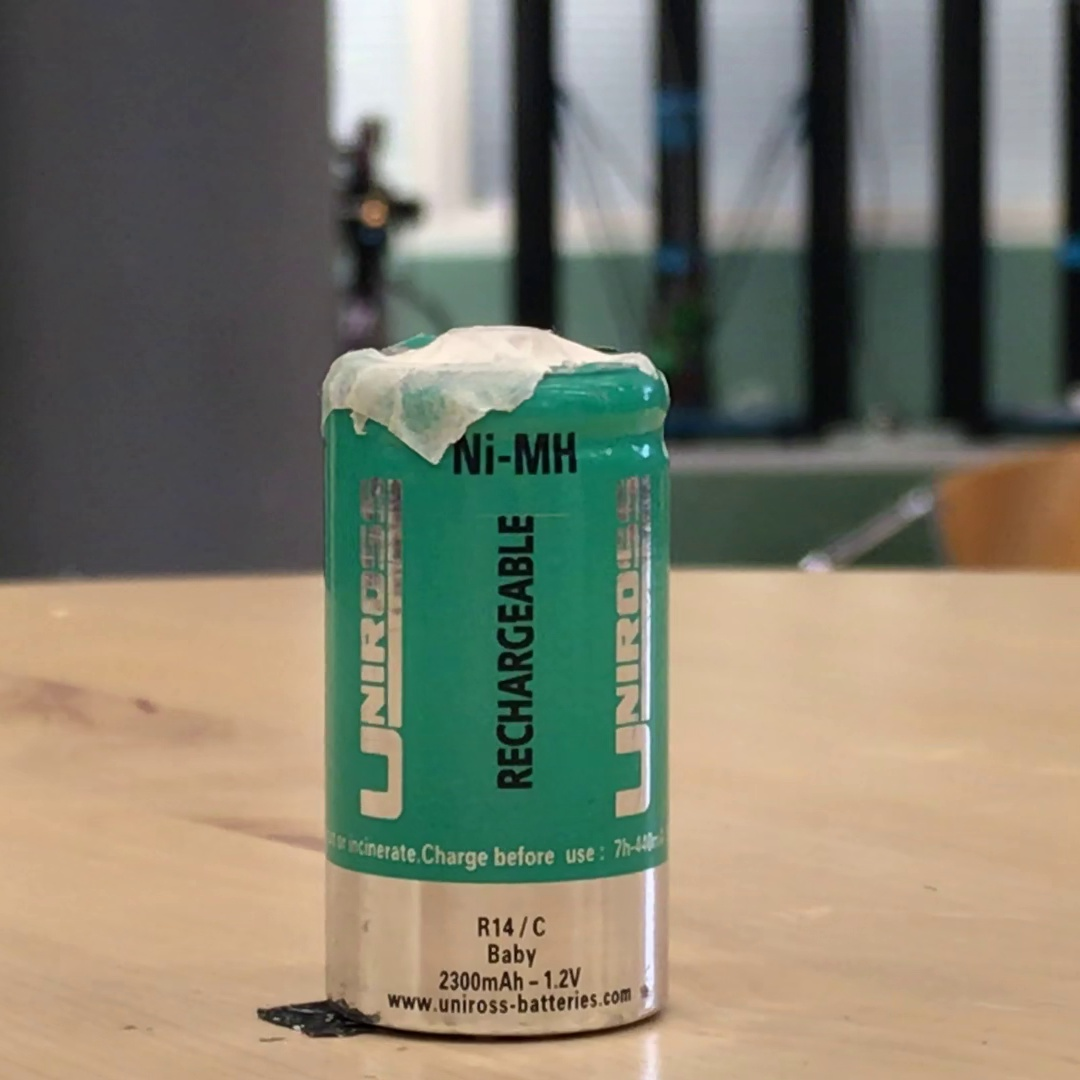keyword: (534, 957, 591, 1000)
